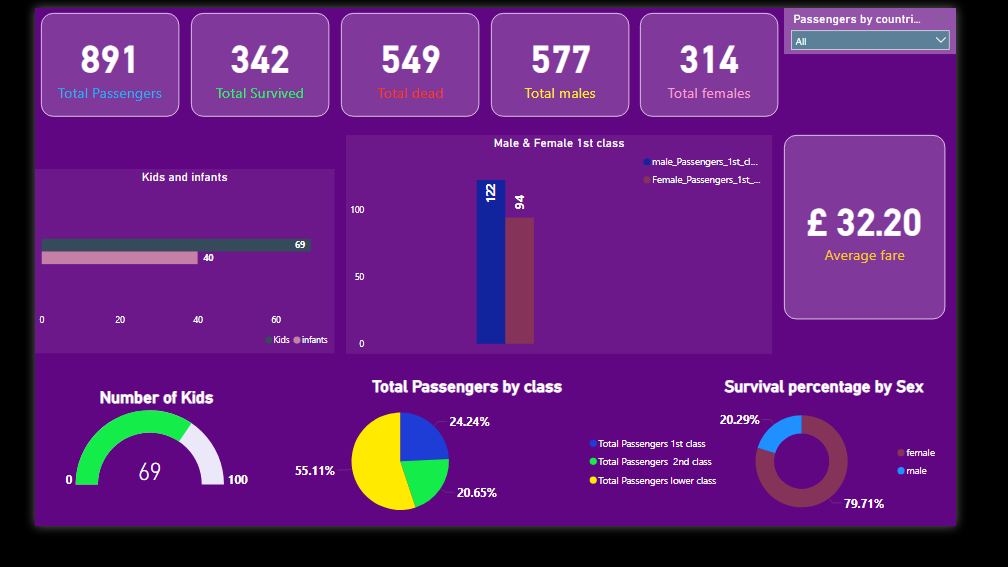

The page's visual inventory and layout, read from the dashboard file:
{"tool":"powerbi","page":{"name":"Duplicate of Duplicate of Page 2","canvas":[1280,720],"ordinal":2},"visuals":[{"type":"card","fields":{"Values":["titanic.Total_Passengers"]},"box":[9,7.3,192,144],"z":0},{"type":"card","fields":{"Values":["titanic.Total_Survived"]},"box":[217,7.3,192,144],"z":1000},{"type":"card","fields":{"Values":["titanic.Total_dead"]},"box":[425,7.3,192,144],"z":2000},{"type":"card","fields":{"Values":["titanic.Total_males"]},"box":[633,7.3,192,144],"z":3000},{"type":"card","fields":{"Values":["titanic.Total_females"]},"box":[841,7.3,192,144],"z":4000},{"type":"donutChart","fields":{"Category":["titanic.Sex"],"Y":["titanic.Survival_percentage"]},"box":[928,512,336,208],"z":5000},{"type":"pieChart","title":"Total Passengers by class","fields":{"Y":["titanic.Total_Passengers_1st_class","titanic.Total_Passengers_2nd_class","titanic.Total_Passengers_lower_class"]},"box":[240,512,720,208],"z":6000},{"type":"gauge","fields":{"Y":["titanic.Number_of_Kids"]},"box":[16,528,304,144],"z":7000},{"type":"slicer","fields":{"Values":["titanic.Countries"]},"box":[1040,0,240,64],"z":8000},{"type":"card","fields":{"Values":["titanic.Avg_fare"]},"box":[1040,208,240,272],"z":9000},{"type":"clusteredBarChart","fields":{"Y":["titanic.Number_of_Kids","titanic.infants"]},"box":[0,224,416,256],"z":10000},{"type":"clusteredColumnChart","title":"Male & Female 1st class","fields":{"Y":["titanic.male_Passengers_1st_class","titanic.Female_Passengers_1st_class"]},"box":[432,176,592,304],"z":11000}]}

Visuals, with their boxes in screenshot pixels (x1, y1, x2, y2), scaled from the page's 1280x720 canvas onto the 1008x567 screenshot:
card - titanic.Total_Passengers: x1=7 y1=6 x2=158 y2=119
card - titanic.Total_Survived: x1=171 y1=6 x2=322 y2=119
card - titanic.Total_dead: x1=335 y1=6 x2=486 y2=119
card - titanic.Total_males: x1=498 y1=6 x2=650 y2=119
card - titanic.Total_females: x1=662 y1=6 x2=813 y2=119
donutChart - titanic.Sex x titanic.Survival_percentage: x1=731 y1=403 x2=995 y2=566
"Total Passengers by class" pieChart: x1=189 y1=403 x2=756 y2=566
gauge - titanic.Number_of_Kids: x1=13 y1=416 x2=252 y2=529
slicer - titanic.Countries: x1=819 y1=0 x2=1007 y2=50
card - titanic.Avg_fare: x1=819 y1=164 x2=1007 y2=378
clusteredBarChart - titanic.Number_of_Kids x titanic.infants: x1=0 y1=176 x2=328 y2=378
"Male & Female 1st class" clusteredColumnChart: x1=340 y1=139 x2=806 y2=378
